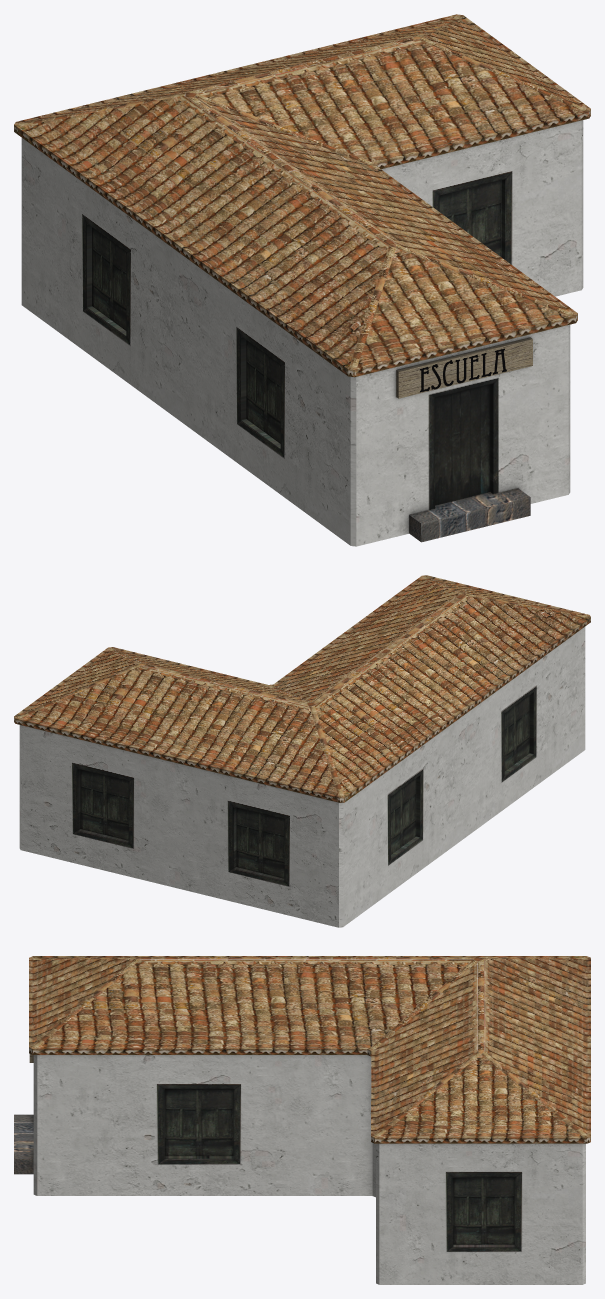
File: escuela.fbx
3 renders of one model, top to bottom at view 1: azimuth 30°, elevation 25°; view 2: azimuth 150°, elevation 25°; view 3: azimuth 270°, elevation 25°, orthographic. The views are drawn at different scales.
Visible parts, largest first — view 1: escuela; view 2: escuela; view 3: escuela.
Part boxes in pixels (box(x1,y1,x2,y2)): escuela: box(14, 14, 590, 546); escuela: box(14, 575, 590, 927); escuela: box(14, 956, 590, 1284).
Size of the model in its own units: 29.91 by 14.67 by 40.13.
